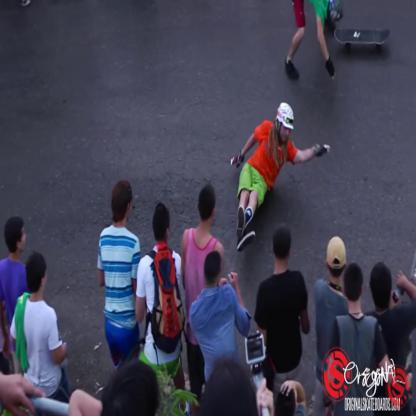Fall_Down: (228, 99, 330, 256)
